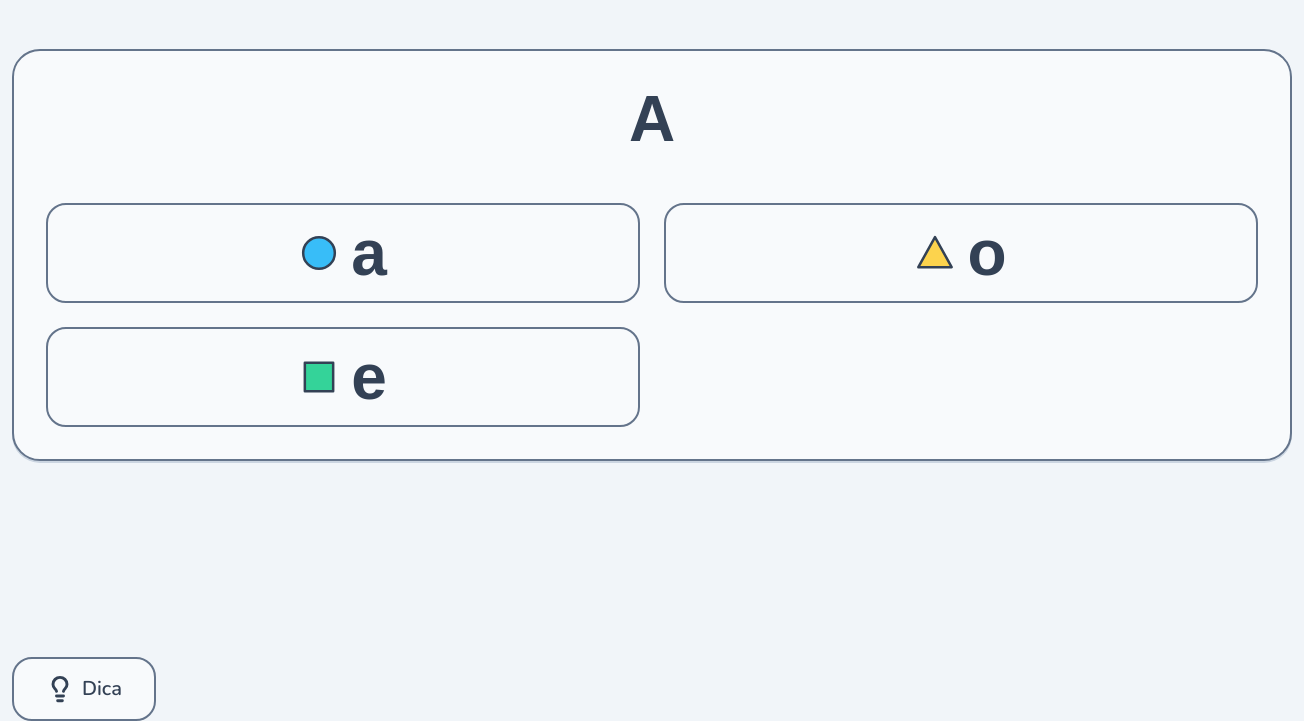
Test: ActivityRunner — fluxo da criança › acerto: feedback com palavra + ícone, botão Continuar aparece e recebe o foco
Click the button named "a, ".
click(319, 253)  # box [46, 203, 640, 303]
(page scrolled)
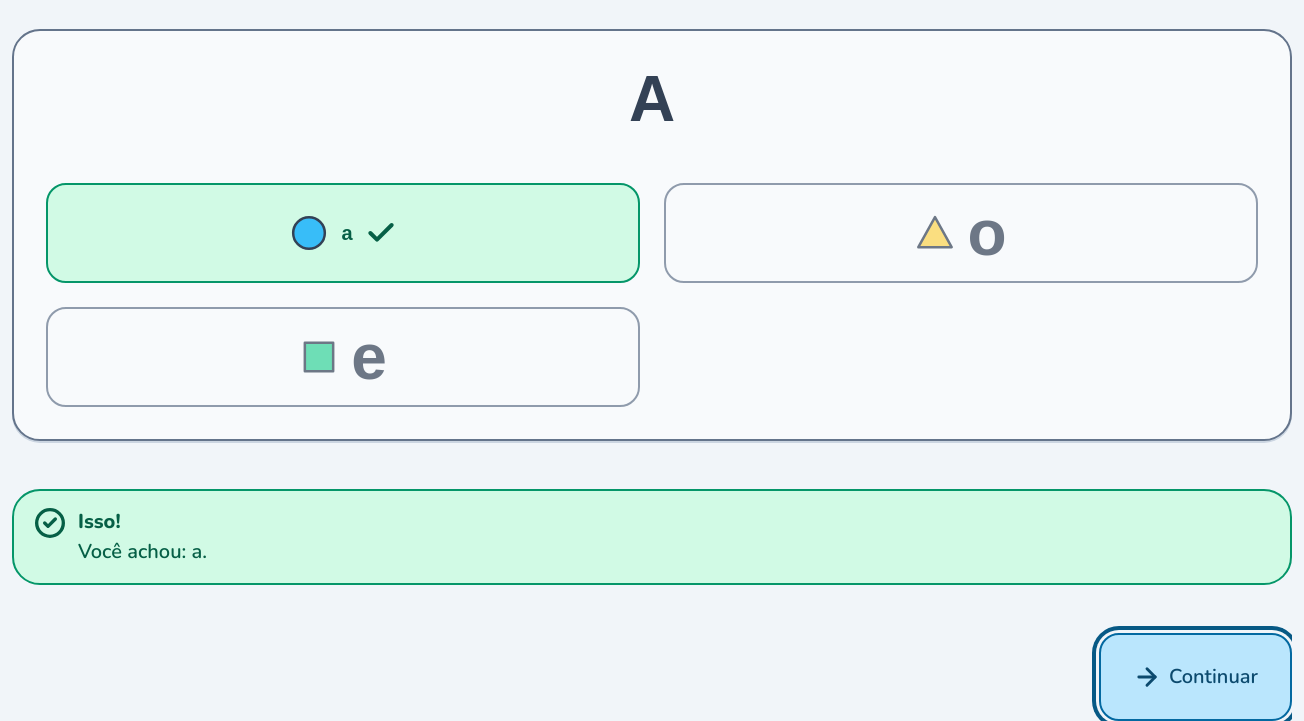
Result: the message shows "Isso!" at [78, 508, 121, 535]
Result: the message shows "Você achou: a." at [78, 538, 207, 565]
Result: the button "Dica" is gone
